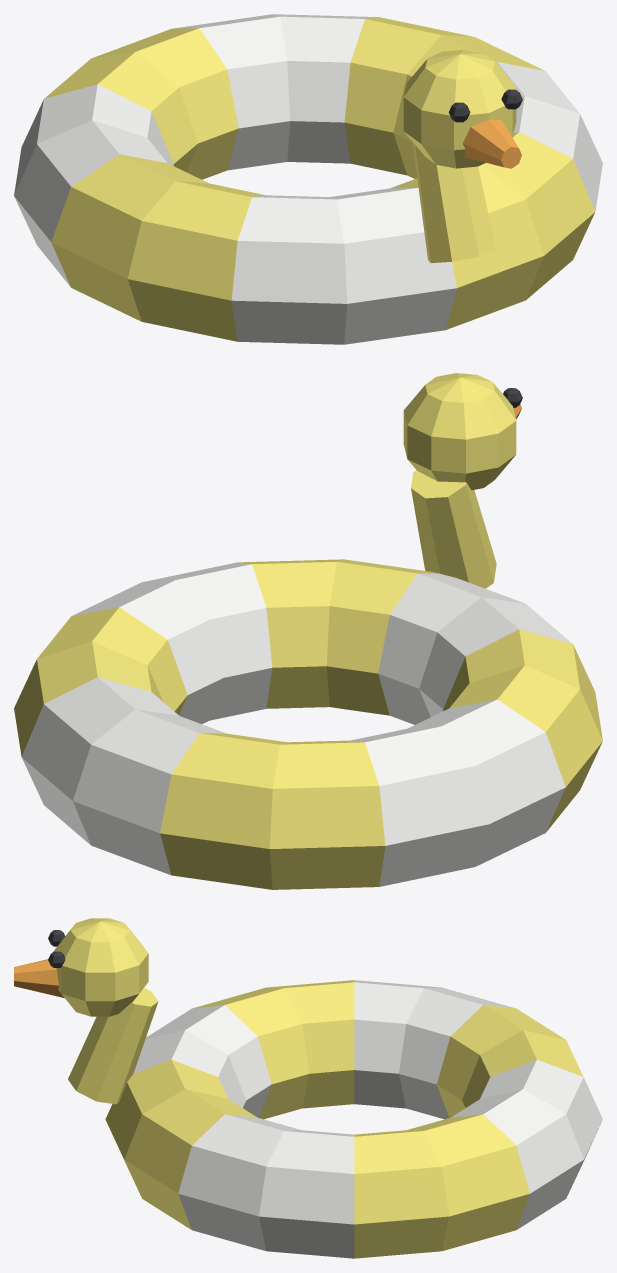
Rendered from CR_Flotador.fbx.
3 views of the same model, one above another, from view 1: azimuth 30°, elevation 25°; view 2: azimuth 150°, elevation 25°; view 3: azimuth 270°, elevation 25° (orthographic). The views are drawn at different scales.
Parts seen in each view (by area): view 1: CR_Flotador; view 2: CR_Flotador; view 3: CR_Flotador.
Boxes of the visible parts, <box> form: CR_Flotador: <box>14,14,602,344</box>; CR_Flotador: <box>14,373,602,889</box>; CR_Flotador: <box>14,918,602,1258</box>.
Size of the model in its own units: 0.98 by 0.56 by 1.16.
